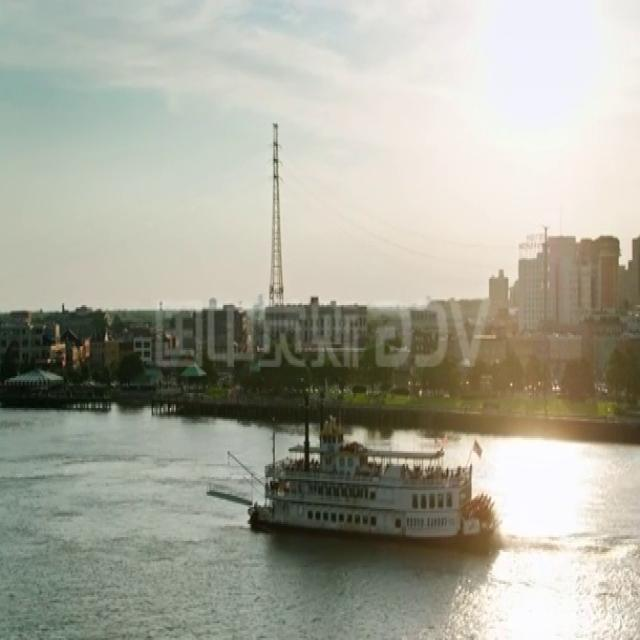passenger ship: (248, 428, 501, 542)
